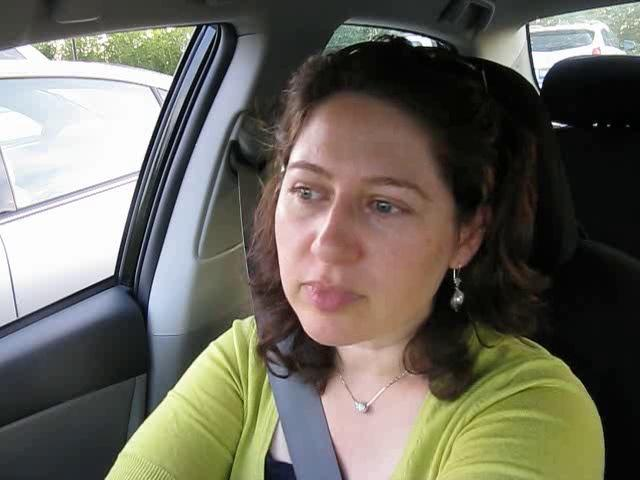no_yawn: (284, 273, 377, 318)
open_eyeL: (274, 171, 336, 215)
open_eyeR: (352, 186, 430, 226)
